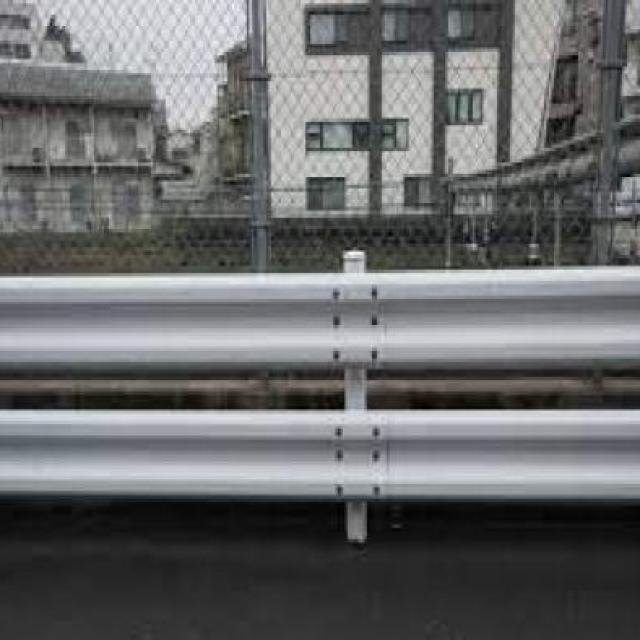Guard rail: (0, 248, 640, 552)
